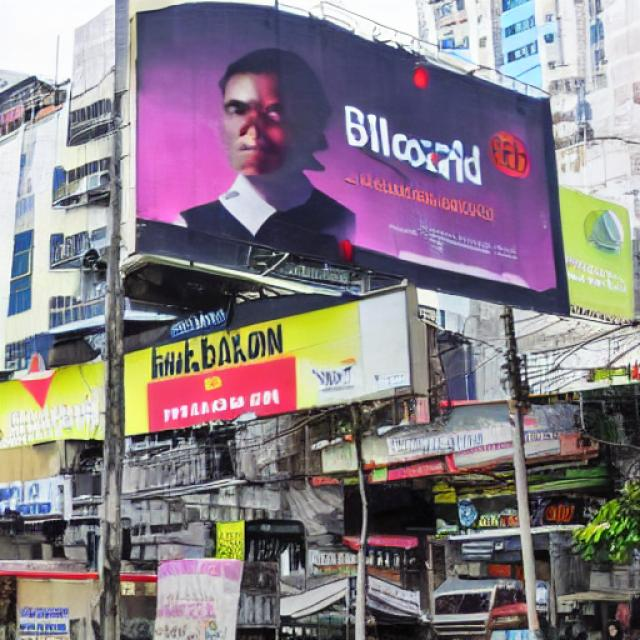Billboard: (120, 0, 571, 318)
